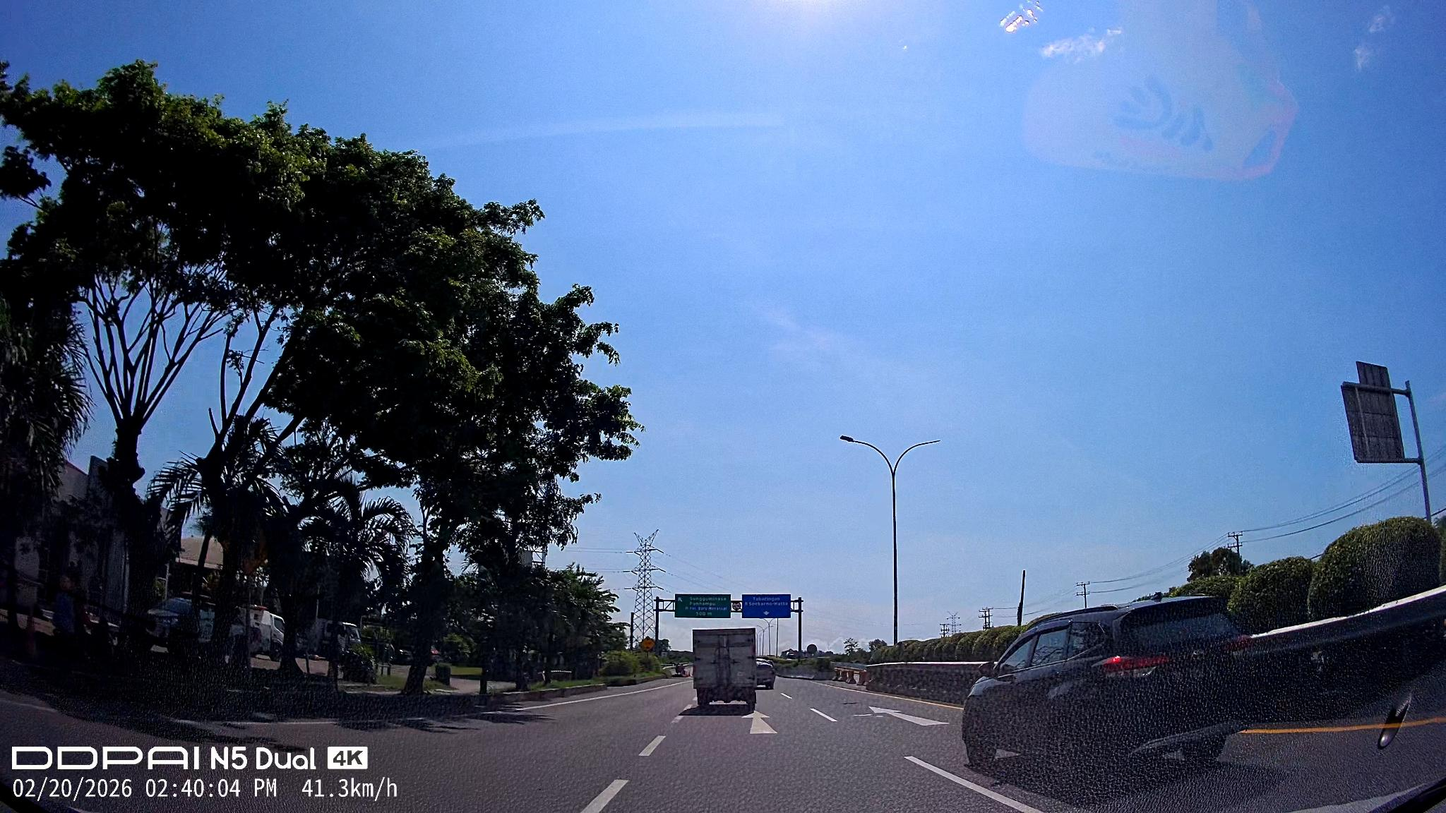rambu_teks: (675, 593, 731, 619), (742, 594, 791, 618)
